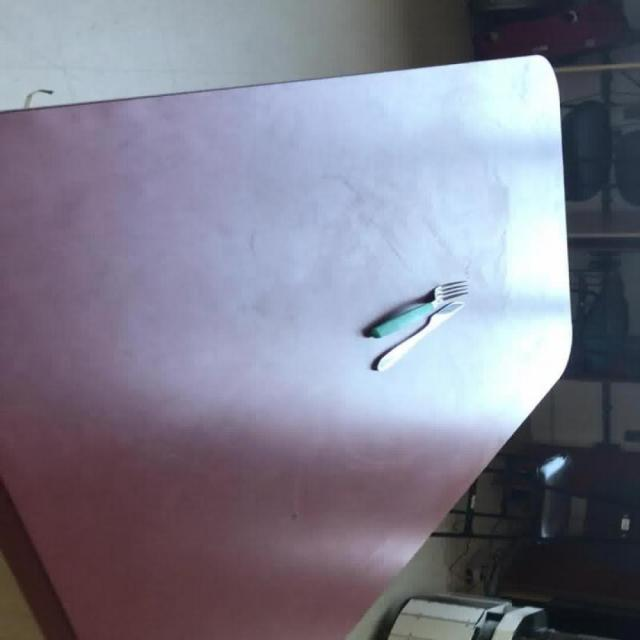Fork: (366, 279, 468, 338)
Knife: (368, 300, 466, 371)
